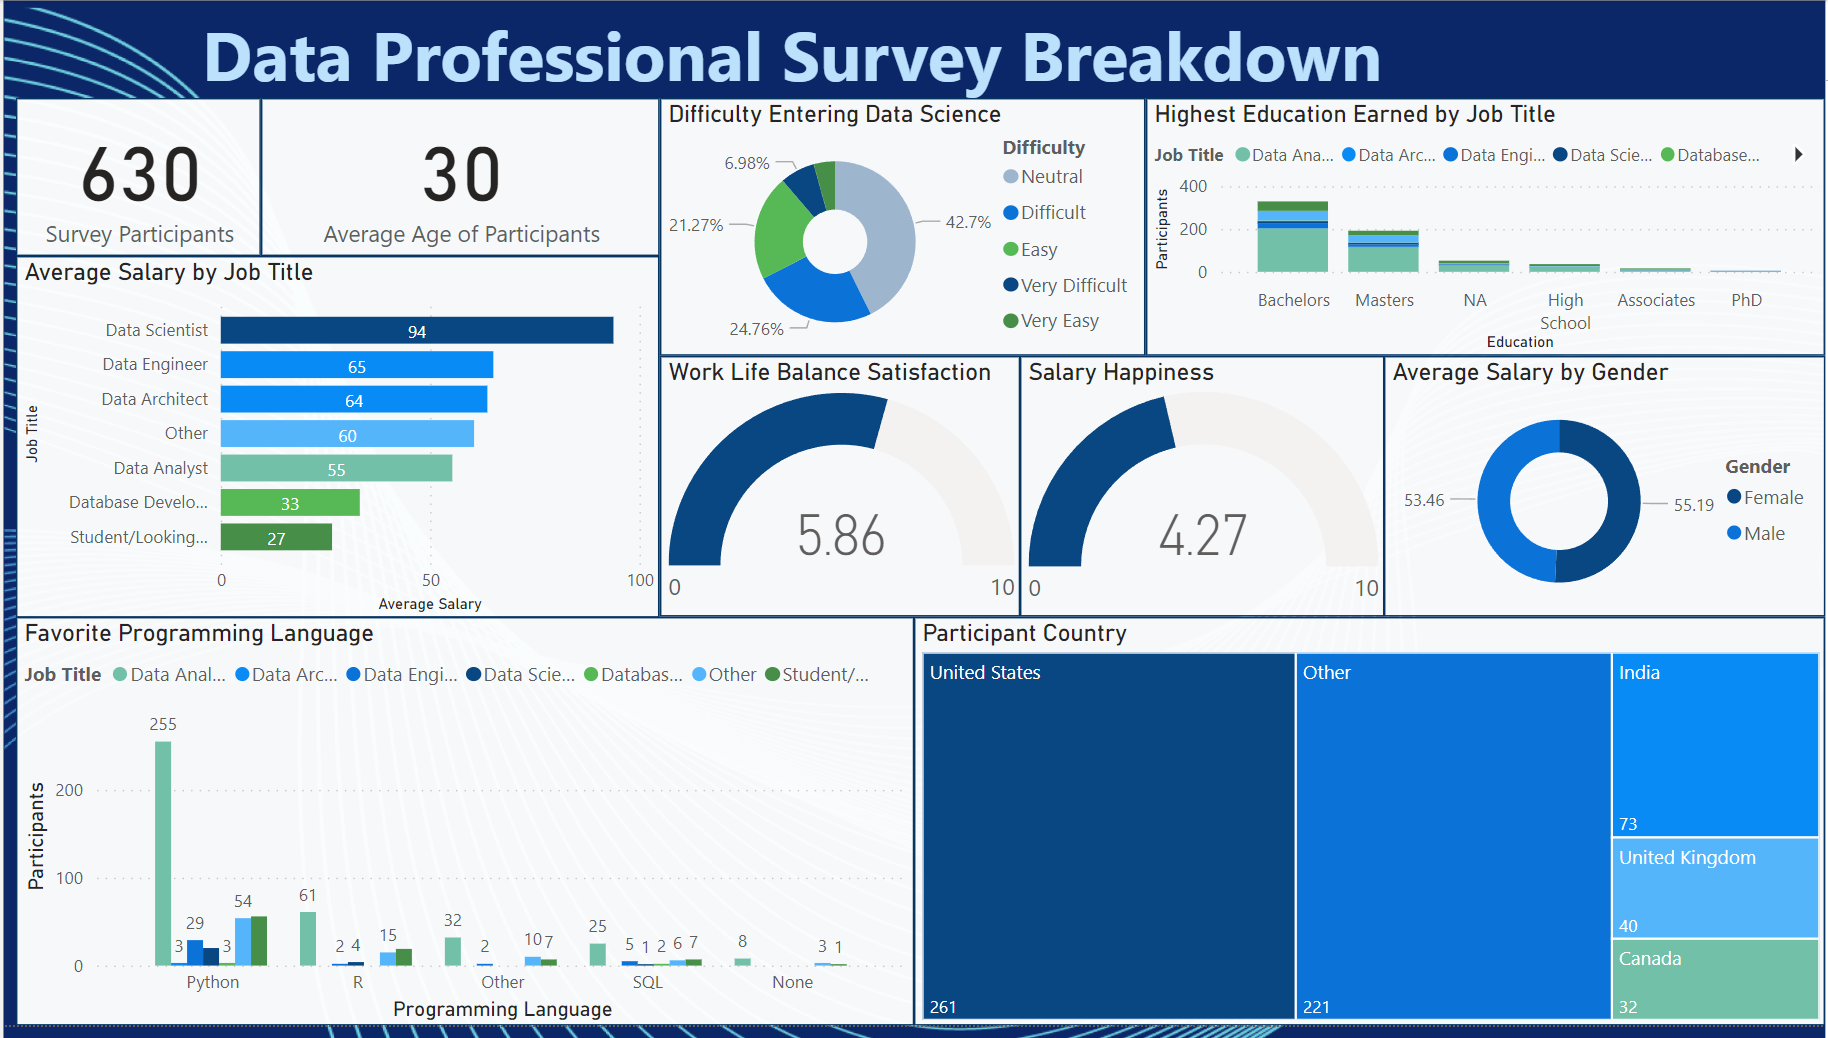

The dashboard page shown, as its layout file describes it:
{"tool":"powerbi","page":{"name":"Page 1","canvas":[1280,720],"ordinal":0},"visuals":[{"type":"textbox","box":[134.9,0,1145.1,82.2],"z":0},{"type":"card","fields":{"Values":["CountNonNull(Data Professional Survey (2).Unique ID)"]},"box":[9.1,68.8,172.1,111],"z":1000},{"type":"card","fields":{"Values":["Avg(Data Professional Survey (2).Q10 - Current Age)"]},"box":[181.3,68.8,280.3,111],"z":2000},{"type":"barChart","title":"Average Salary by Job Title","fields":{"Category":["Data Professional Survey (2).Q1 - Which Title Best Fits your Current Role?.1"],"Y":["Avg(Data Professional Survey (2).Average Salary)"],"Series":["Data Professional Survey (2).Q1 - Which Title Best Fits your Current Role?.1"]},"box":[9.1,179.8,452.4,253.6],"z":3000},{"type":"clusteredColumnChart","title":"Favorite Programming Language","fields":{"Y":["CountNonNull(Data Professional Survey (2).Unique ID)"],"Series":["Data Professional Survey (2).Q1 - Which Title Best Fits your Current Role?.1"],"Category":["Data Professional Survey (2).Q5 - Favorite Programming Language (groups)"]},"box":[9.1,433.5,630.9,286.6],"z":4000},{"type":"treemap","title":"Participant Country","fields":{"Values":["CountNonNull(Data Professional Survey (2).Q11 - Which Country do you live in?)"],"Group":["Data Professional Survey (2).Q11 - Which Country do you live in? (groups)"]},"box":[640,433.5,640,286.6],"z":5000},{"type":"gauge","title":"Work Life Balance Satisfaction","fields":{"MinValue":["Min(Data Professional Survey (2).Q6 - How Happy are you in your Current Position with the following? (Coworkers))"],"MaxValue":["Max(Data Professional Survey (2).Q6 - How Happy are you in your Current Position with the following? (Coworkers))"],"Y":["Avg(Data Professional Survey (2).Q6 - How Happy are you in your Current Position with the following? (Coworkers))"]},"box":[461.6,250.1,252.9,183.4],"z":6000},{"type":"gauge","title":"Salary Happiness","fields":{"Y":["Avg(Data Professional Survey (2).Q6 - How Happy are you in your Current Position with the following? (Salary))"],"MinValue":["Min(Data Professional Survey (2).Q6 - How Happy are you in your Current Position with the following? (Salary))"],"MaxValue":["Max(Data Professional Survey (2).Q6 - How Happy are you in your Current Position with the following? (Salary))"]},"box":[714.5,250.1,255.7,183.4],"z":7000},{"type":"donutChart","title":"Average Salary by Gender","fields":{"Category":["Data Professional Survey (2).Q9 - Male/Female?"],"Y":["Avg(Data Professional Survey (2).Average Salary)"]},"box":[970.2,250.1,309.8,183.4],"z":8000},{"type":"donutChart","title":"Difficulty Entering Data Science","fields":{"Category":["Data Professional Survey (2).Q7 - How difficult was it for you to break into Data?"],"Y":["CountNonNull(Data Professional Survey (2).Q7 - How difficult was it for you to break into Data?)"]},"box":[461.6,68.8,341.4,181.3],"z":9000},{"type":"columnChart","title":"Highest Education Earned by Job Title","fields":{"Category":["Data Professional Survey (2).Q12 - Highest Level of Education"],"Y":["CountNonNull(Data Professional Survey (2).Q1 - Which Title Best Fits your Current Role?.1)"],"Series":["Data Professional Survey (2).Q1 - Which Title Best Fits your Current Role?.1"]},"box":[803,68.8,477,181.3],"z":10000}]}

Visuals, with their boxes in screenshot pixels (x1, y1, x2, y2), scaled from the page's 1280x720 canvas onto the 1828x1038 screenshot:
textbox: 193, 0, 1827, 119
card - CountNonNull(Data Professional Survey (2).Unique ID): 13, 99, 259, 259
card - Avg(Data Professional Survey (2).Q10 - Current Age): 259, 99, 659, 259
"Average Salary by Job Title" barChart: 13, 259, 659, 625
"Favorite Programming Language" clusteredColumnChart: 13, 625, 914, 1037
"Participant Country" treemap: 914, 625, 1827, 1037
"Work Life Balance Satisfaction" gauge: 659, 361, 1020, 625
"Salary Happiness" gauge: 1020, 361, 1386, 625
"Average Salary by Gender" donutChart: 1386, 361, 1827, 625
"Difficulty Entering Data Science" donutChart: 659, 99, 1147, 361
"Highest Education Earned by Job Title" columnChart: 1147, 99, 1827, 361
